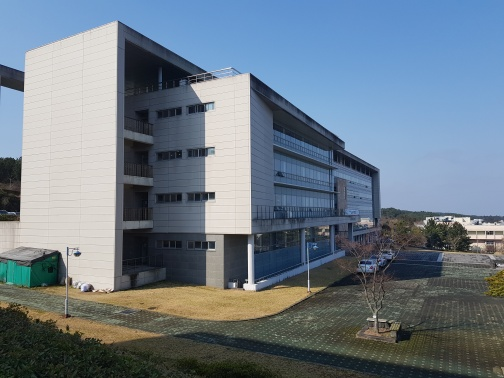Engineering College Building 4: (28, 34, 392, 250), (134, 65, 260, 295), (15, 28, 123, 291), (275, 99, 381, 245)
